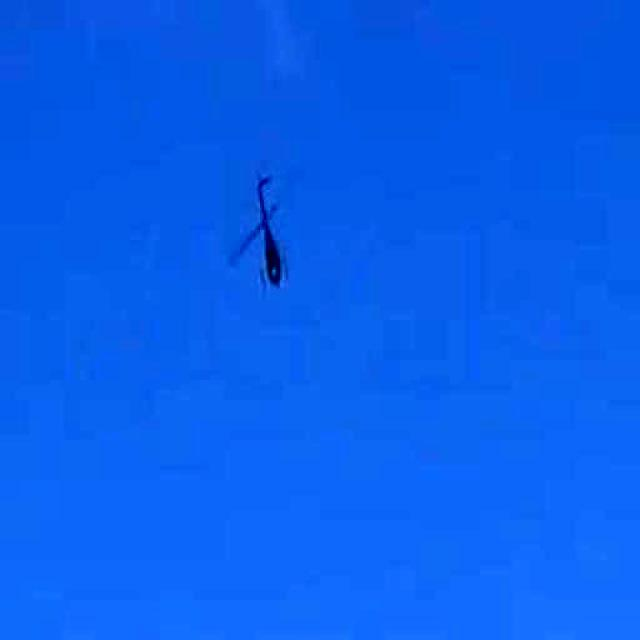drone: (205, 159, 339, 311)
